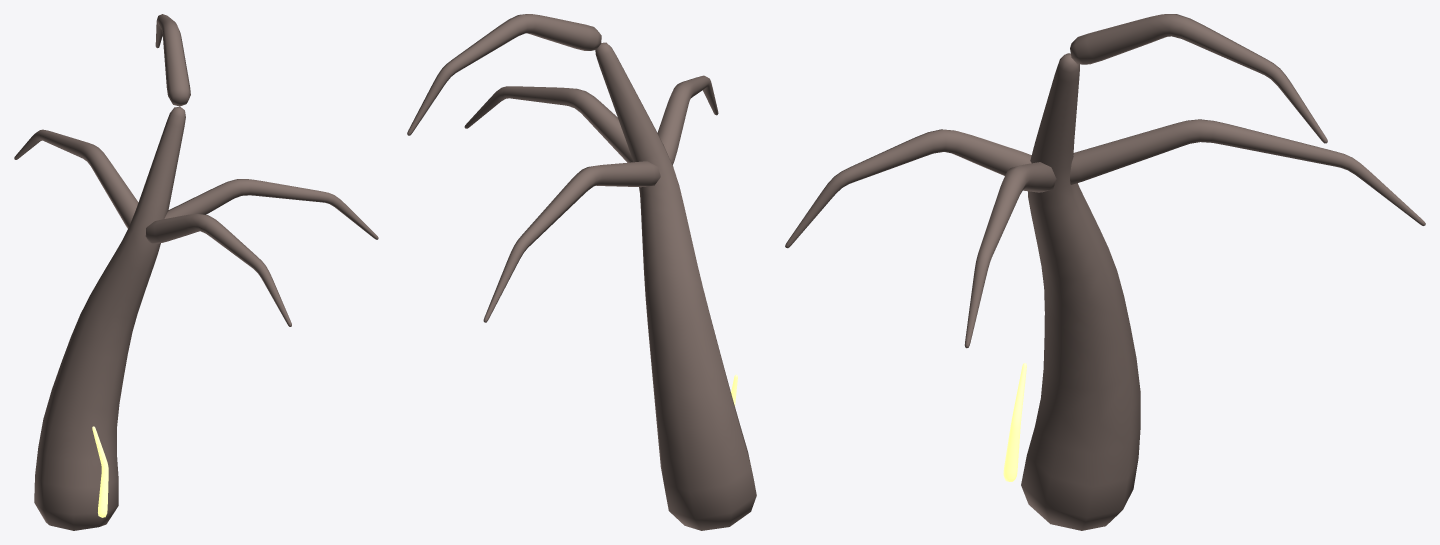
File: ENV_Ember_BurntTree_2_I.fbx
3 views of the same model, side by side, from view 1: azimuth 30°, elevation 25°; view 2: azimuth 150°, elevation 25°; view 3: azimuth 270°, elevation 25° (orthographic). The views are drawn at different scales.
Parts seen in each view (by area): view 1: ENV_Ember_BurntTree_2_I; view 2: ENV_Ember_BurntTree_2_I; view 3: ENV_Ember_BurntTree_2_I.
Part boxes in pixels (left/top/right/bottom): ENV_Ember_BurntTree_2_I: left=14, top=14, right=378, bottom=530; ENV_Ember_BurntTree_2_I: left=407, top=14, right=756, bottom=530; ENV_Ember_BurntTree_2_I: left=785, top=14, right=1425, bottom=530.
Size of the model in its own units: 2 by 2.86 by 2.82.
